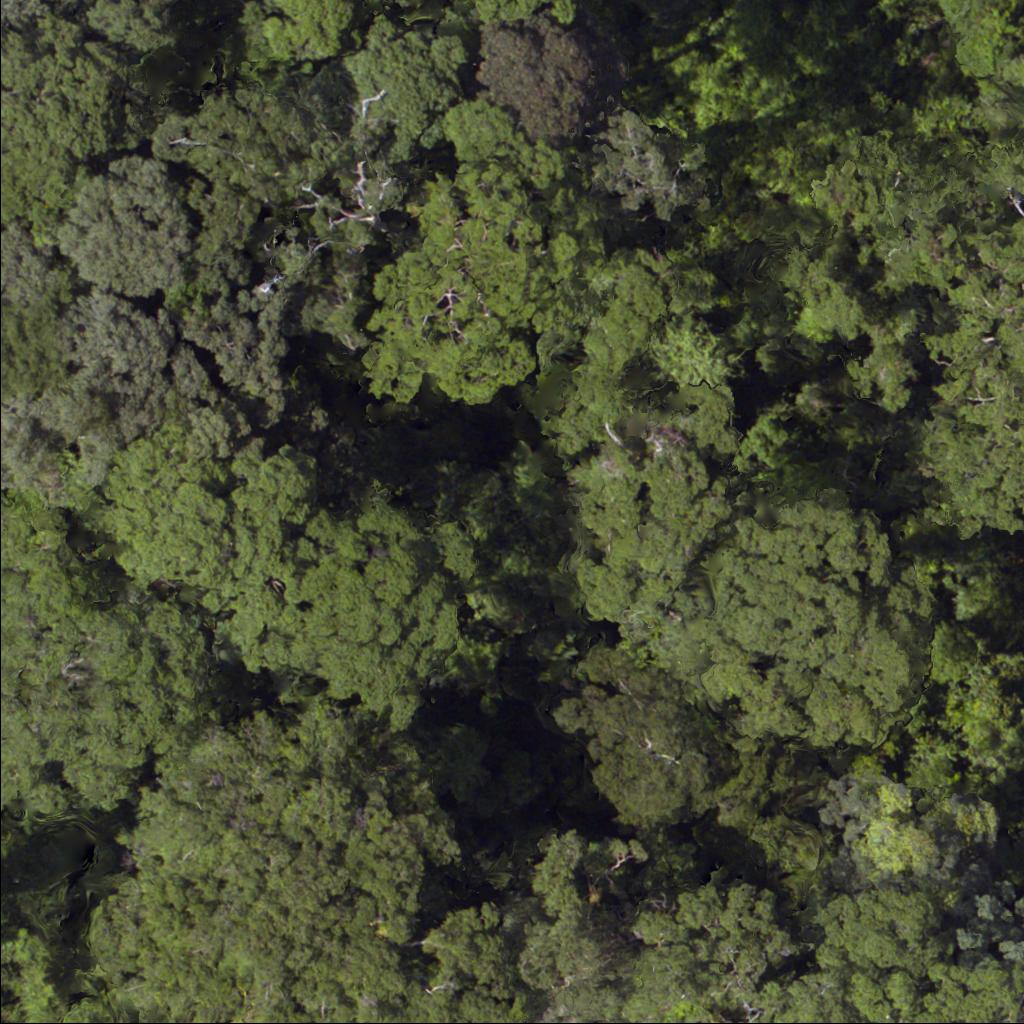crown: (484, 23, 583, 136), (483, 0, 574, 18)
